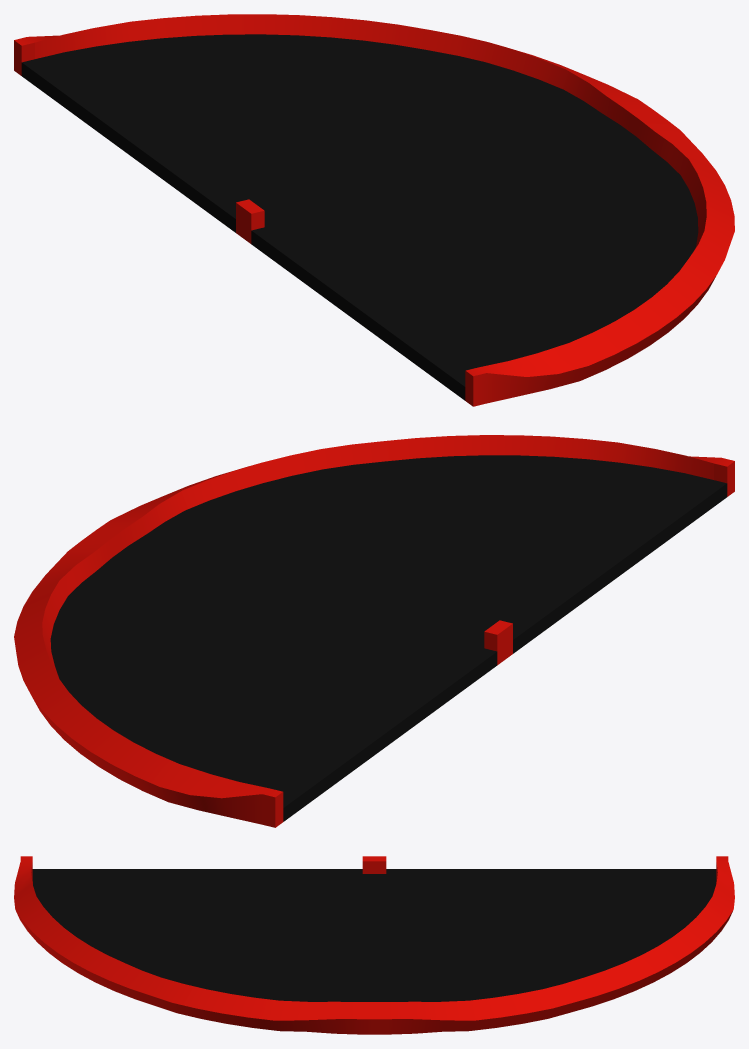
Rendered from Turn_05.fbx.
The picture shows the model from 3 angles, top to bottom: view 1: azimuth 30°, elevation 25°; view 2: azimuth 150°, elevation 25°; view 3: azimuth 270°, elevation 25°; orthographic projection. The views are drawn at different scales.
Visible parts, largest first — view 1: Turn_05; view 2: Turn_05; view 3: Turn_05.
Part boxes in pixels (x1,y1,x2,y2): Turn_05: (14, 14, 734, 406); Turn_05: (14, 435, 734, 827); Turn_05: (14, 856, 734, 1034).
Bounding box in the file's own units: 61.85 × 4.33 × 120.
